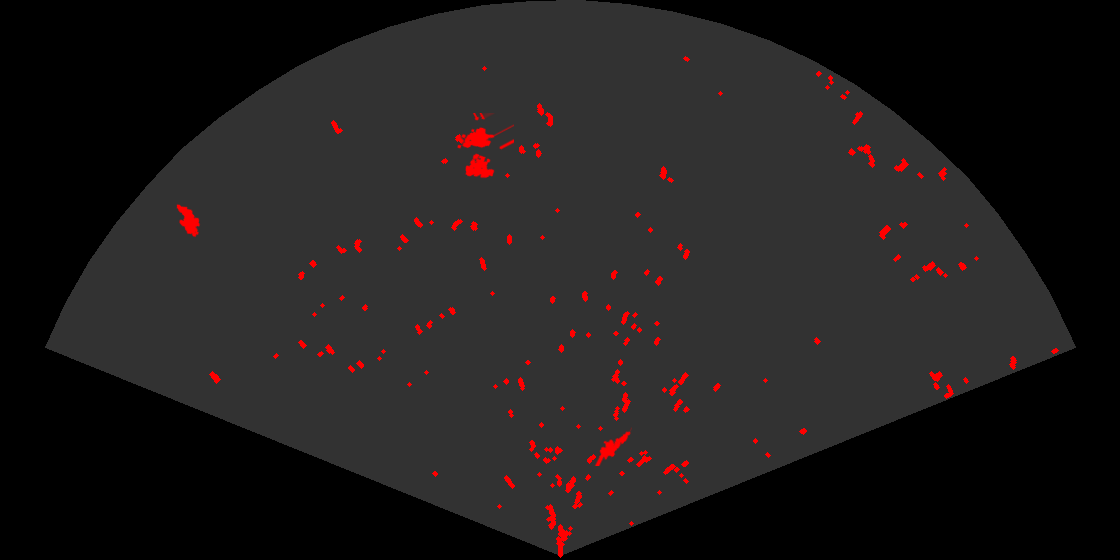AUV: (175, 202, 202, 239)
cage: (456, 113, 514, 180)
frogman: (593, 426, 632, 466)
